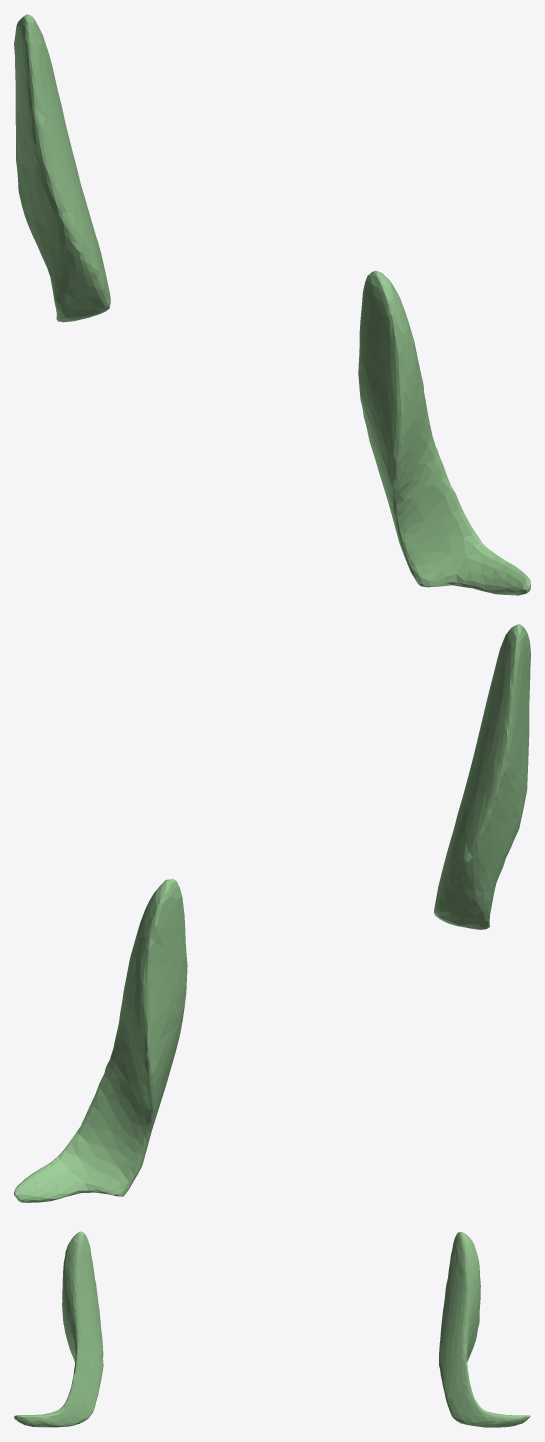
3 views of the same model, one above another, from view 1: azimuth 30°, elevation 25°; view 2: azimuth 150°, elevation 25°; view 3: azimuth 270°, elevation 25° (orthographic). The views are drawn at different scales.
Parts seen in each view (by area): view 1: 843.obj; view 2: 843.obj; view 3: 843.obj.
Part boxes in pixels (x1=…): 843.obj: x1=14, y1=14, x2=530, y2=595; 843.obj: x1=14, y1=624, x2=530, y2=1202; 843.obj: x1=14, y1=1231, x2=530, y2=1427.
Size of the model in its own units: 1028 by 2896 by 7731.
